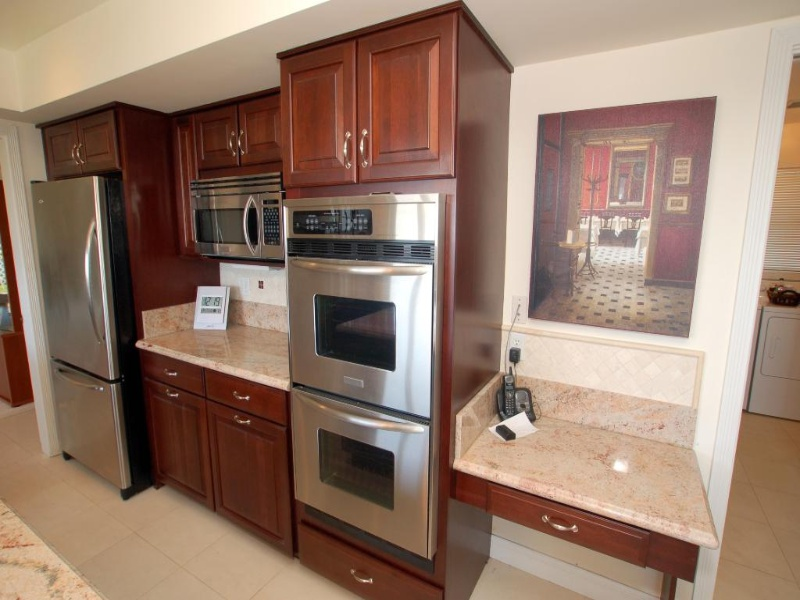oven: (282, 204, 435, 414), (283, 387, 445, 574)
refrigerator: (24, 174, 147, 494)
